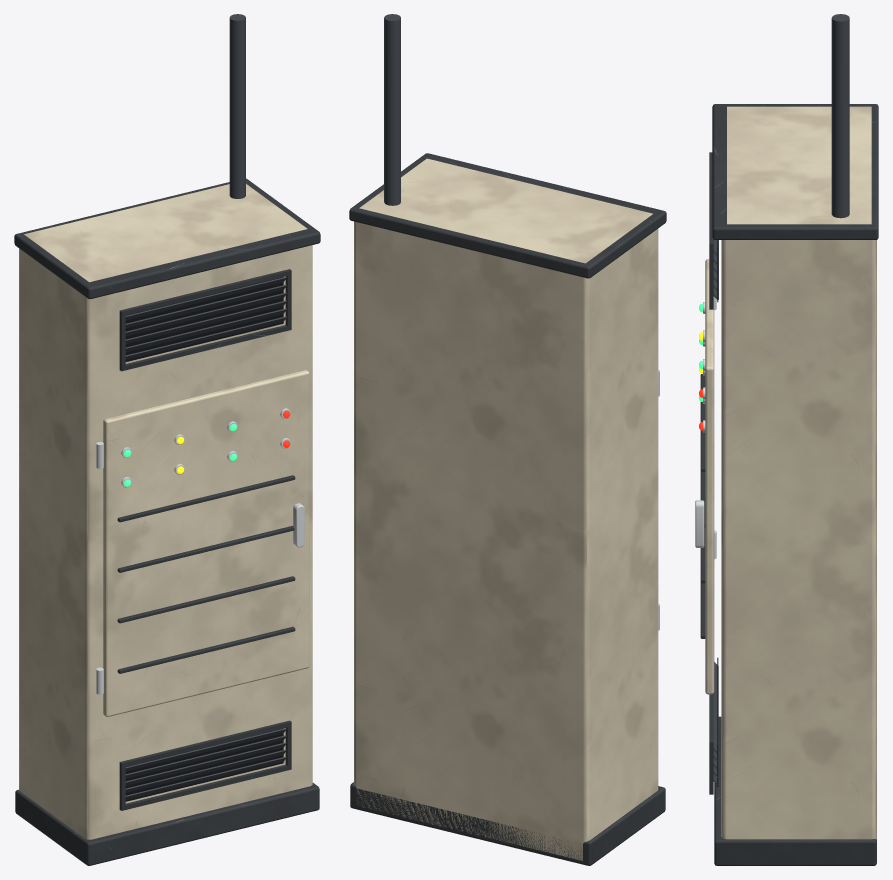
The model's file is EquipmentRack.glb.
3 views of the same model, side by side, from view 1: azimuth 30°, elevation 25°; view 2: azimuth 150°, elevation 25°; view 3: azimuth 270°, elevation 25° (orthographic). The views are drawn at different scales.
Visible parts, largest first — view 1: EquipmentRack_Body, EquipmentRack_Door; view 2: EquipmentRack_Body; view 3: EquipmentRack_Body, EquipmentRack_Door.
Part boxes in pixels (<box>): EquipmentRack_Body: <box>14,14,320,865</box>; EquipmentRack_Door: <box>96,370,309,716</box>; EquipmentRack_Body: <box>349,14,666,865</box>; EquipmentRack_Body: <box>709,14,878,865</box>; EquipmentRack_Door: <box>695,259,716,694</box>.
Bounding box in the file's own units: 0.82 × 2.55 × 0.5075.
8 materials, 2 textured.
